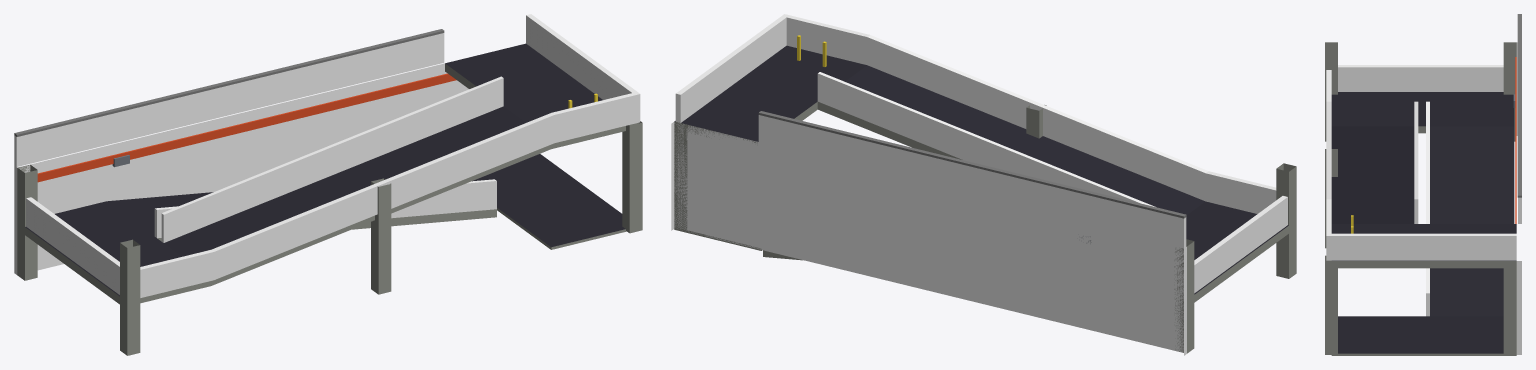
File: base-stair3_close.fbx
3 renders of one model, left to right at view 1: azimuth 30°, elevation 25°; view 2: azimuth 150°, elevation 25°; view 3: azimuth 270°, elevation 25°, orthographic. The views are drawn at different scales.
Visible parts, largest first — view 1: a2008/0/base-stair3_close; view 2: a2008/0/base-stair3_close; view 3: a2008/0/base-stair3_close.
Boxes of the visible parts, x1,y1,x2,y2 form: a2008/0/base-stair3_close: (14,14,642,355); a2008/0/base-stair3_close: (671,14,1296,355); a2008/0/base-stair3_close: (1325,14,1521,355).
Bounding box in the file's own units: 20 × 5.5 × 7.6.
